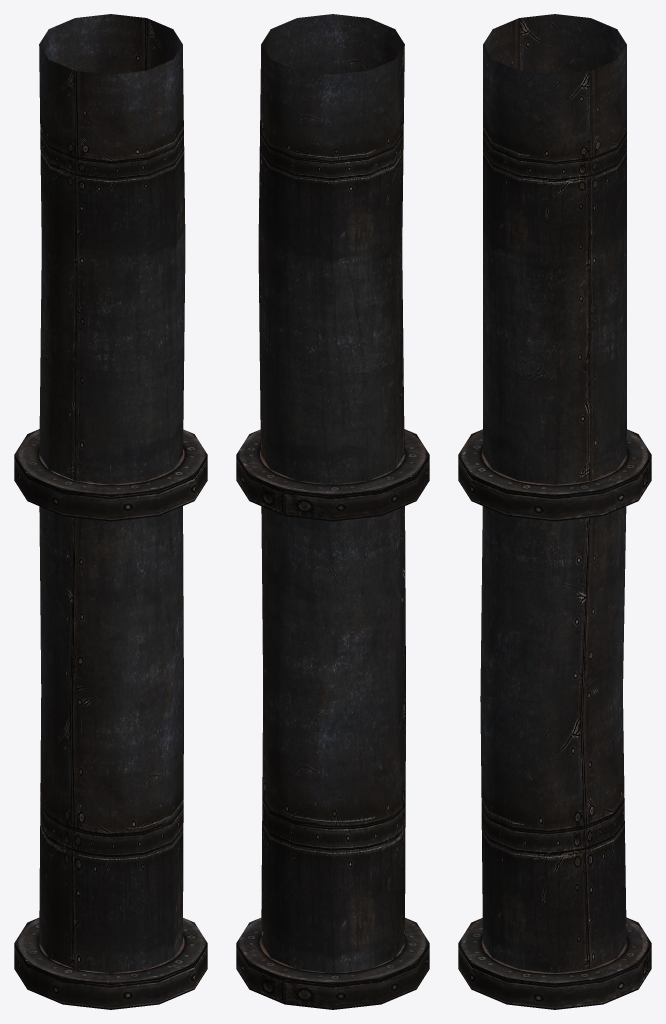
The model's file is tesla_props_pipes_01_lg.dae.
3 renders of one model, left to right at view 1: azimuth 30°, elevation 25°; view 2: azimuth 150°, elevation 25°; view 3: azimuth 270°, elevation 25°, orthographic.
Parts seen in each view (by area): view 1: tesla_props_pipes_01_lg; view 2: tesla_props_pipes_01_lg; view 3: tesla_props_pipes_01_lg.
Part boxes in pixels (x1,y1,x2,y2): tesla_props_pipes_01_lg: [14, 14, 207, 1009]; tesla_props_pipes_01_lg: [236, 14, 429, 1009]; tesla_props_pipes_01_lg: [458, 14, 651, 1009].
Size of what is drawn, in the model's own units: 1.34 by 7.1 by 1.34.
